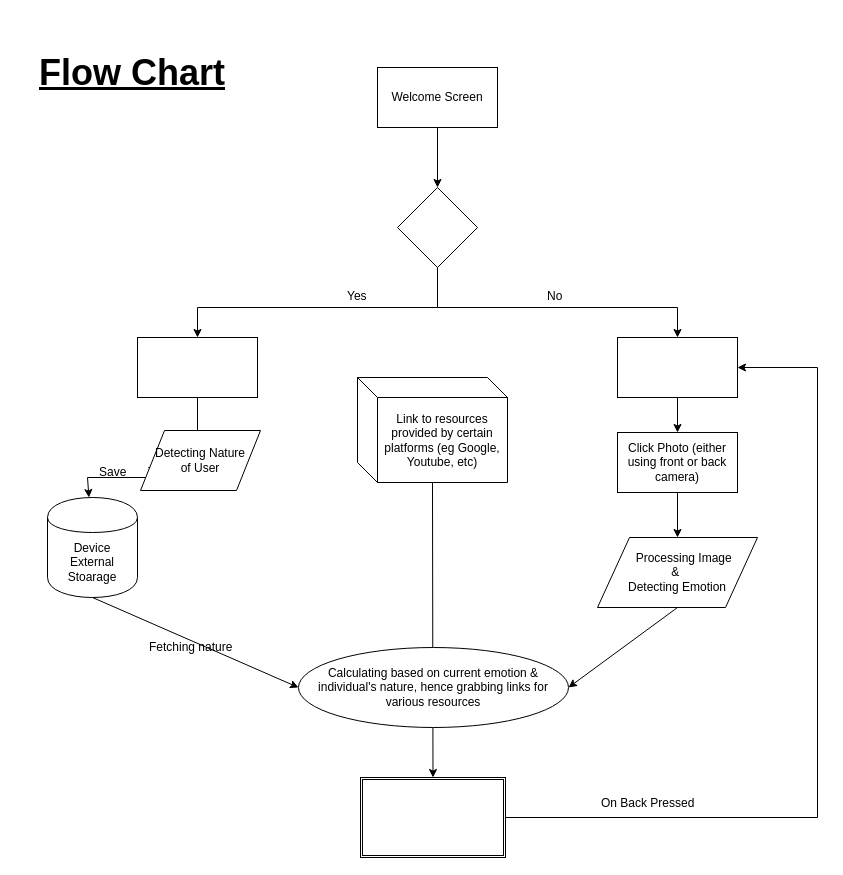
The diagram is 843 pixels wide and 875 high, and some of its shapes have lost their labels. Each missing label, with the centre of its shape:
"Ask certain queries" goes at (197,367).
"Camera Interface" goes at (677,367).
"Is First Time User" goes at (437,227).
"Providing resources to intensify captured emotion" goes at (433,817).
